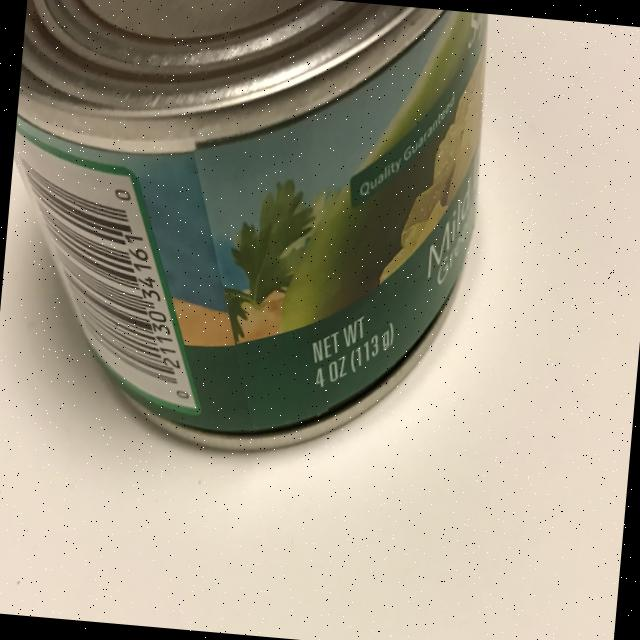metal: (0, 0, 494, 471)
